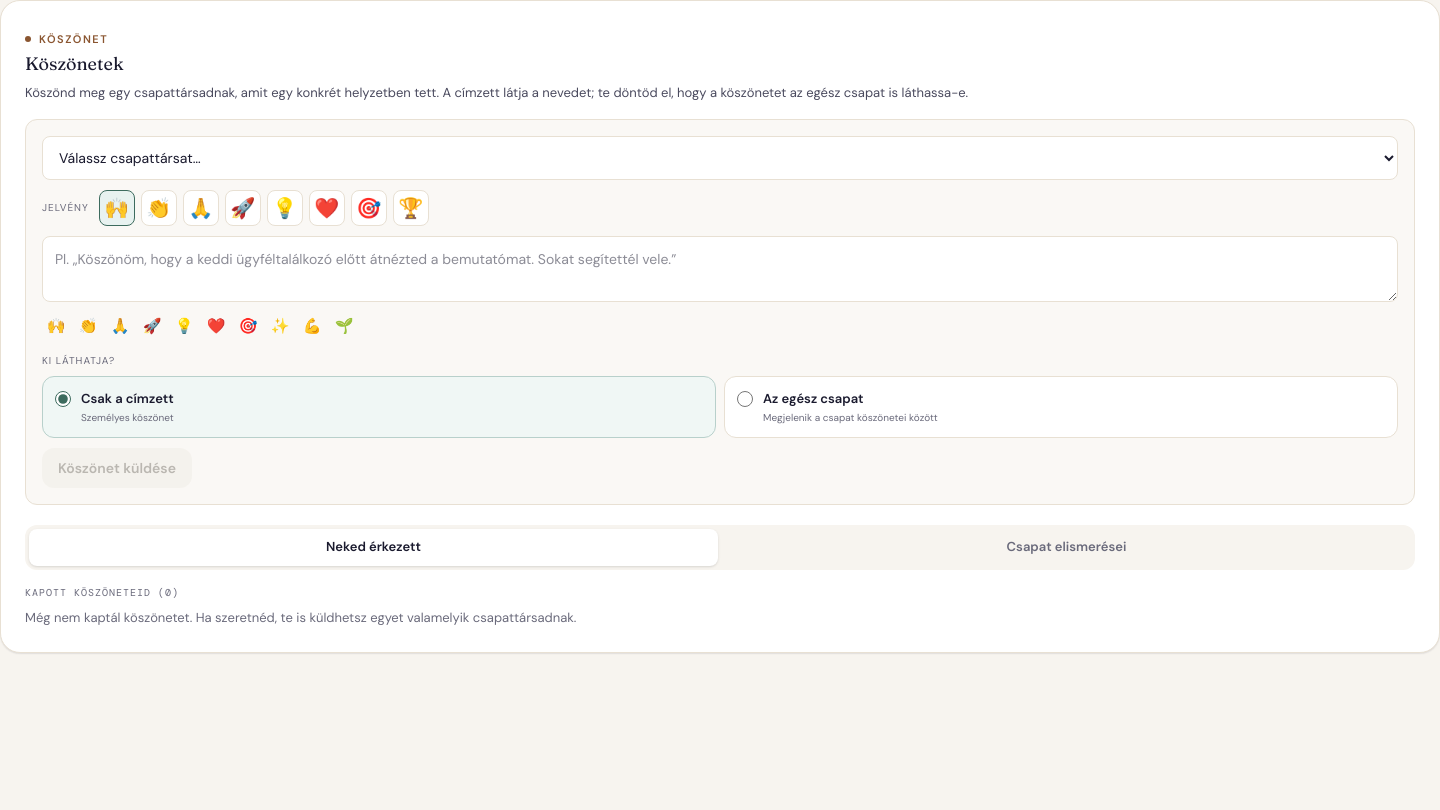
Test: TeamKudos › a csapattal megosztott kudost külön csapatfolyamban mutatja
Click the button "Csapat elismerései" at (1066, 547), box left=722, top=529, right=1411, bottom=566
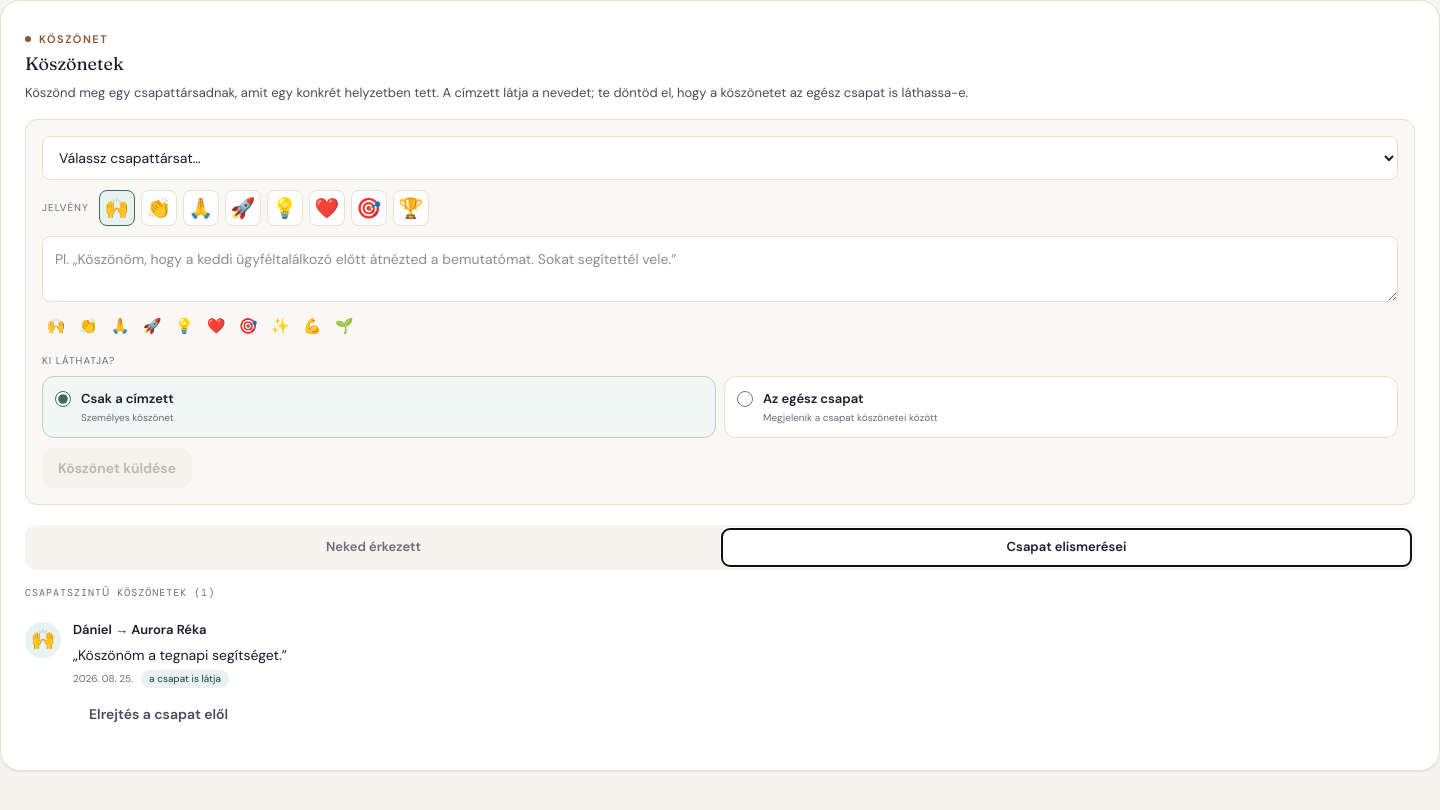
Expected: the text "Dániel → Aurora Réka" is shown, left=73, top=621, right=206, bottom=638
Expected: the text "„Köszönöm a tegnapi segítséget.”" is shown, left=73, top=646, right=287, bottom=664
Expected: the text "a csapat is látja" is shown, left=141, top=670, right=229, bottom=688
